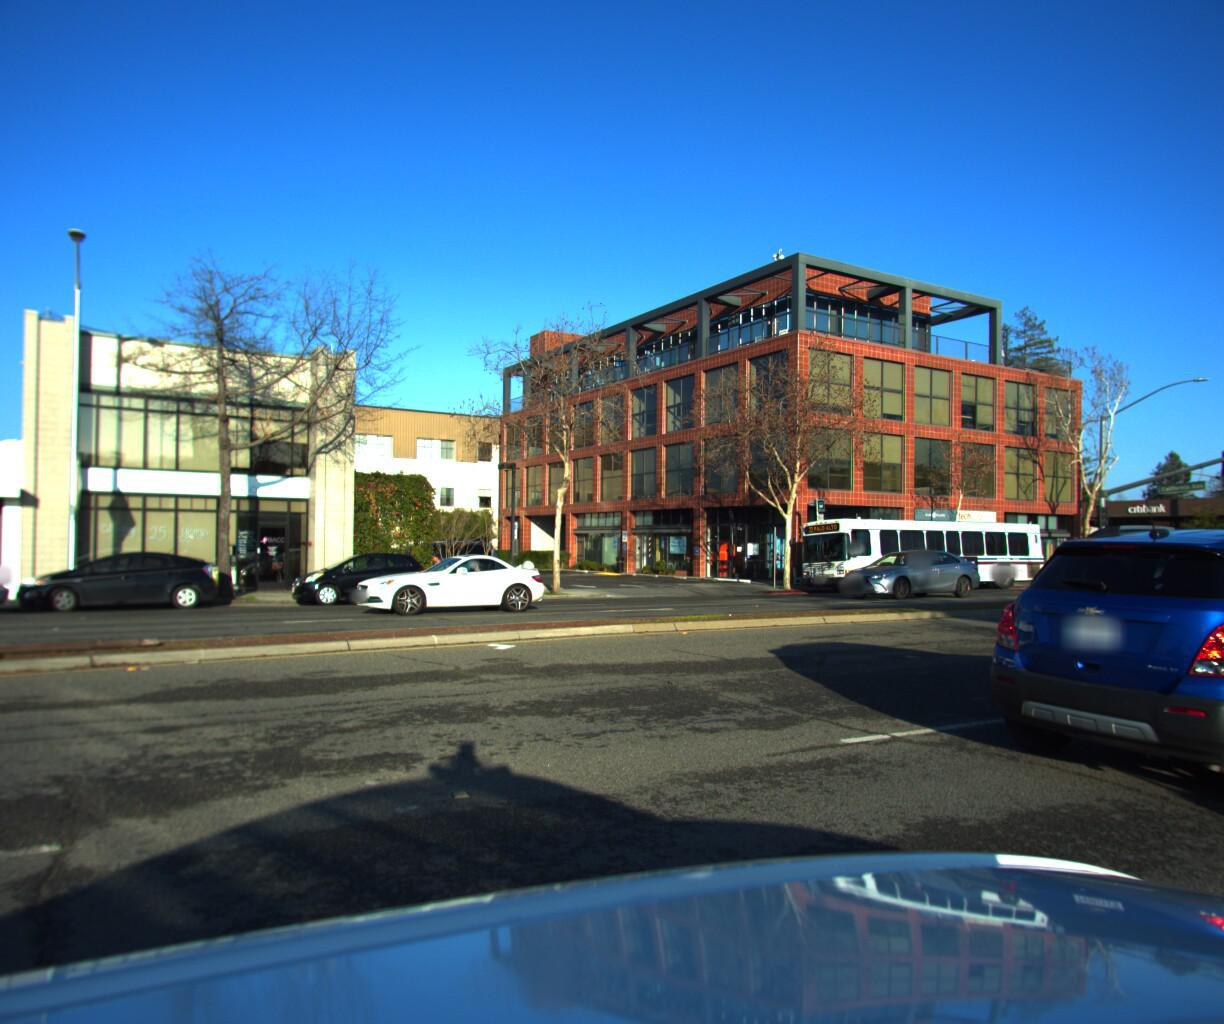bus: (789, 514, 1048, 584)
car: (955, 520, 1224, 846), (7, 549, 225, 621), (338, 549, 549, 616), (823, 540, 987, 600), (281, 550, 437, 610), (367, 535, 511, 587), (0, 544, 16, 633)
